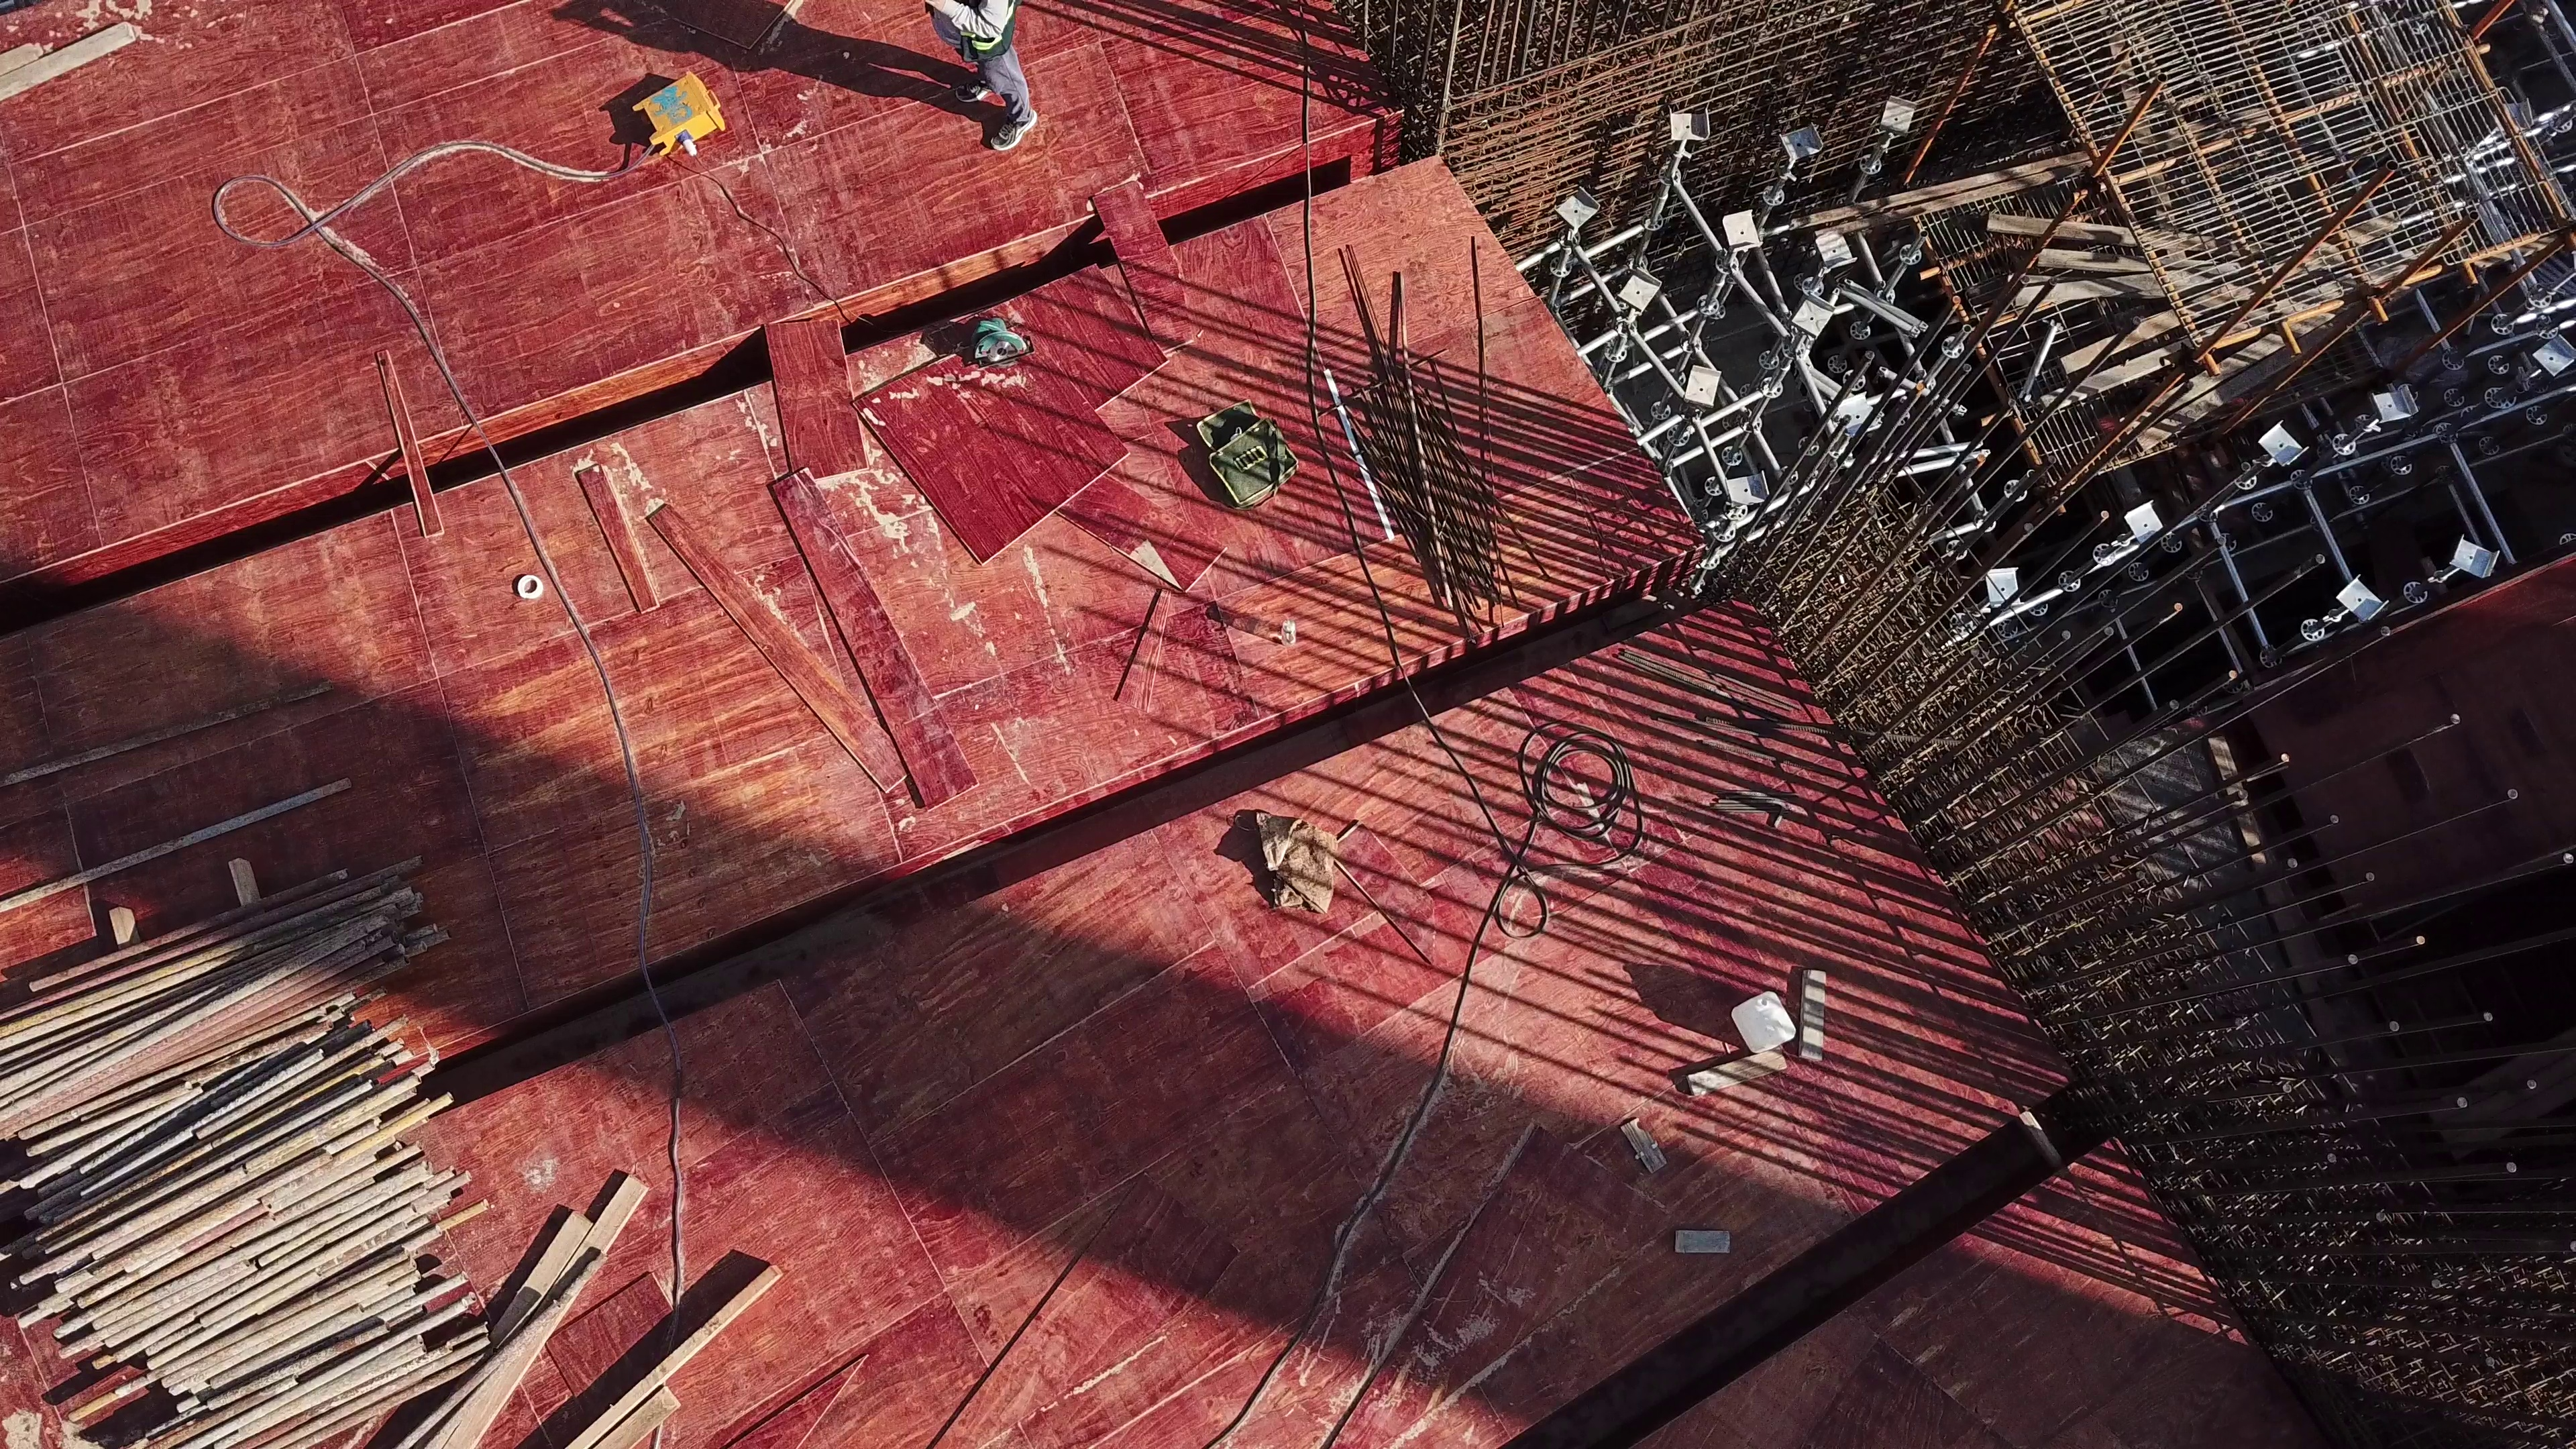ebox: (629, 63, 726, 162)
person: (897, 1, 1052, 172)
scaffold: (6, 802, 500, 1449)
